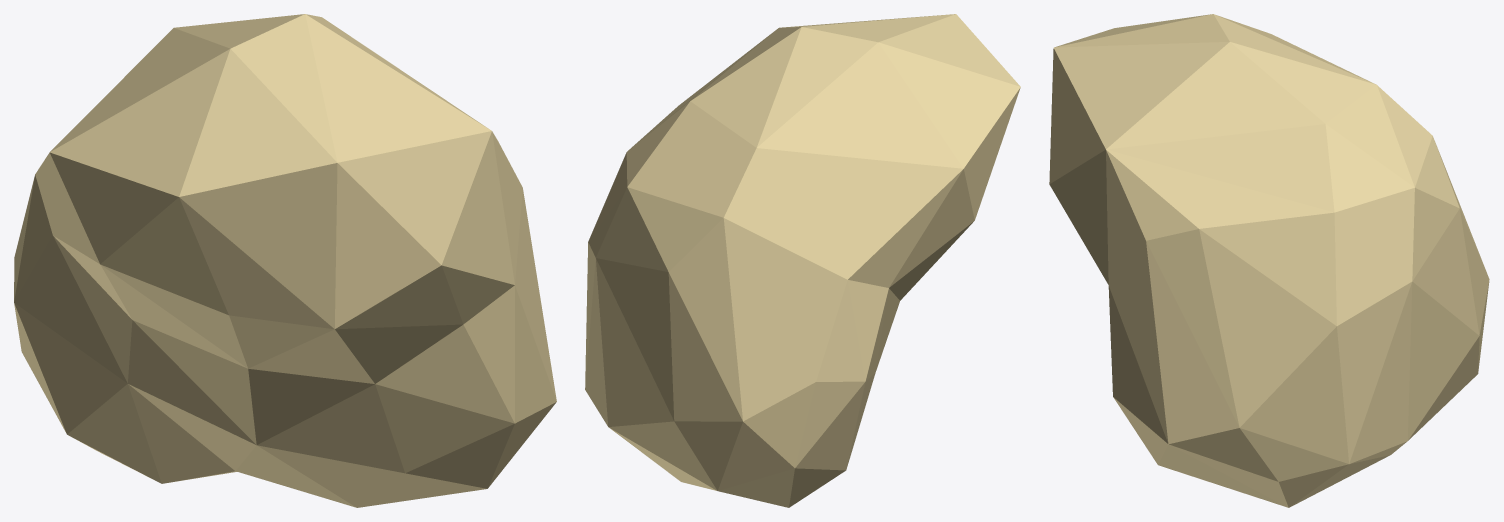
Rendered from Rock (89).fbx.
3 views of the same model, side by side, from view 1: azimuth 30°, elevation 25°; view 2: azimuth 150°, elevation 25°; view 3: azimuth 270°, elevation 25° (orthographic). The views are drawn at different scales.
Parts seen in each view (by area): view 1: Asteroid88; view 2: Asteroid88; view 3: Asteroid88.
Part boxes in pixels (x1,y1,x2,y2): Asteroid88: (14, 14, 556, 507); Asteroid88: (585, 14, 1020, 507); Asteroid88: (1049, 14, 1489, 507).
Size of the model in its own units: 54.53 by 60.62 by 58.26.
